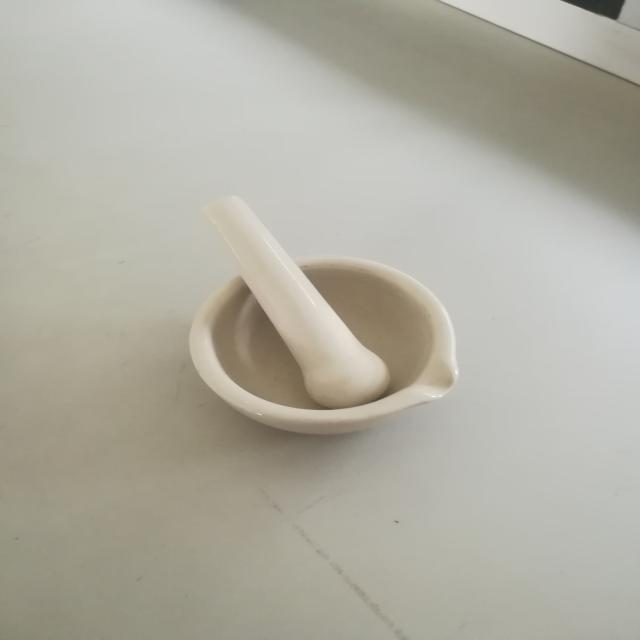Porcelain_Mortar Pestle: (119, 141, 507, 461)
